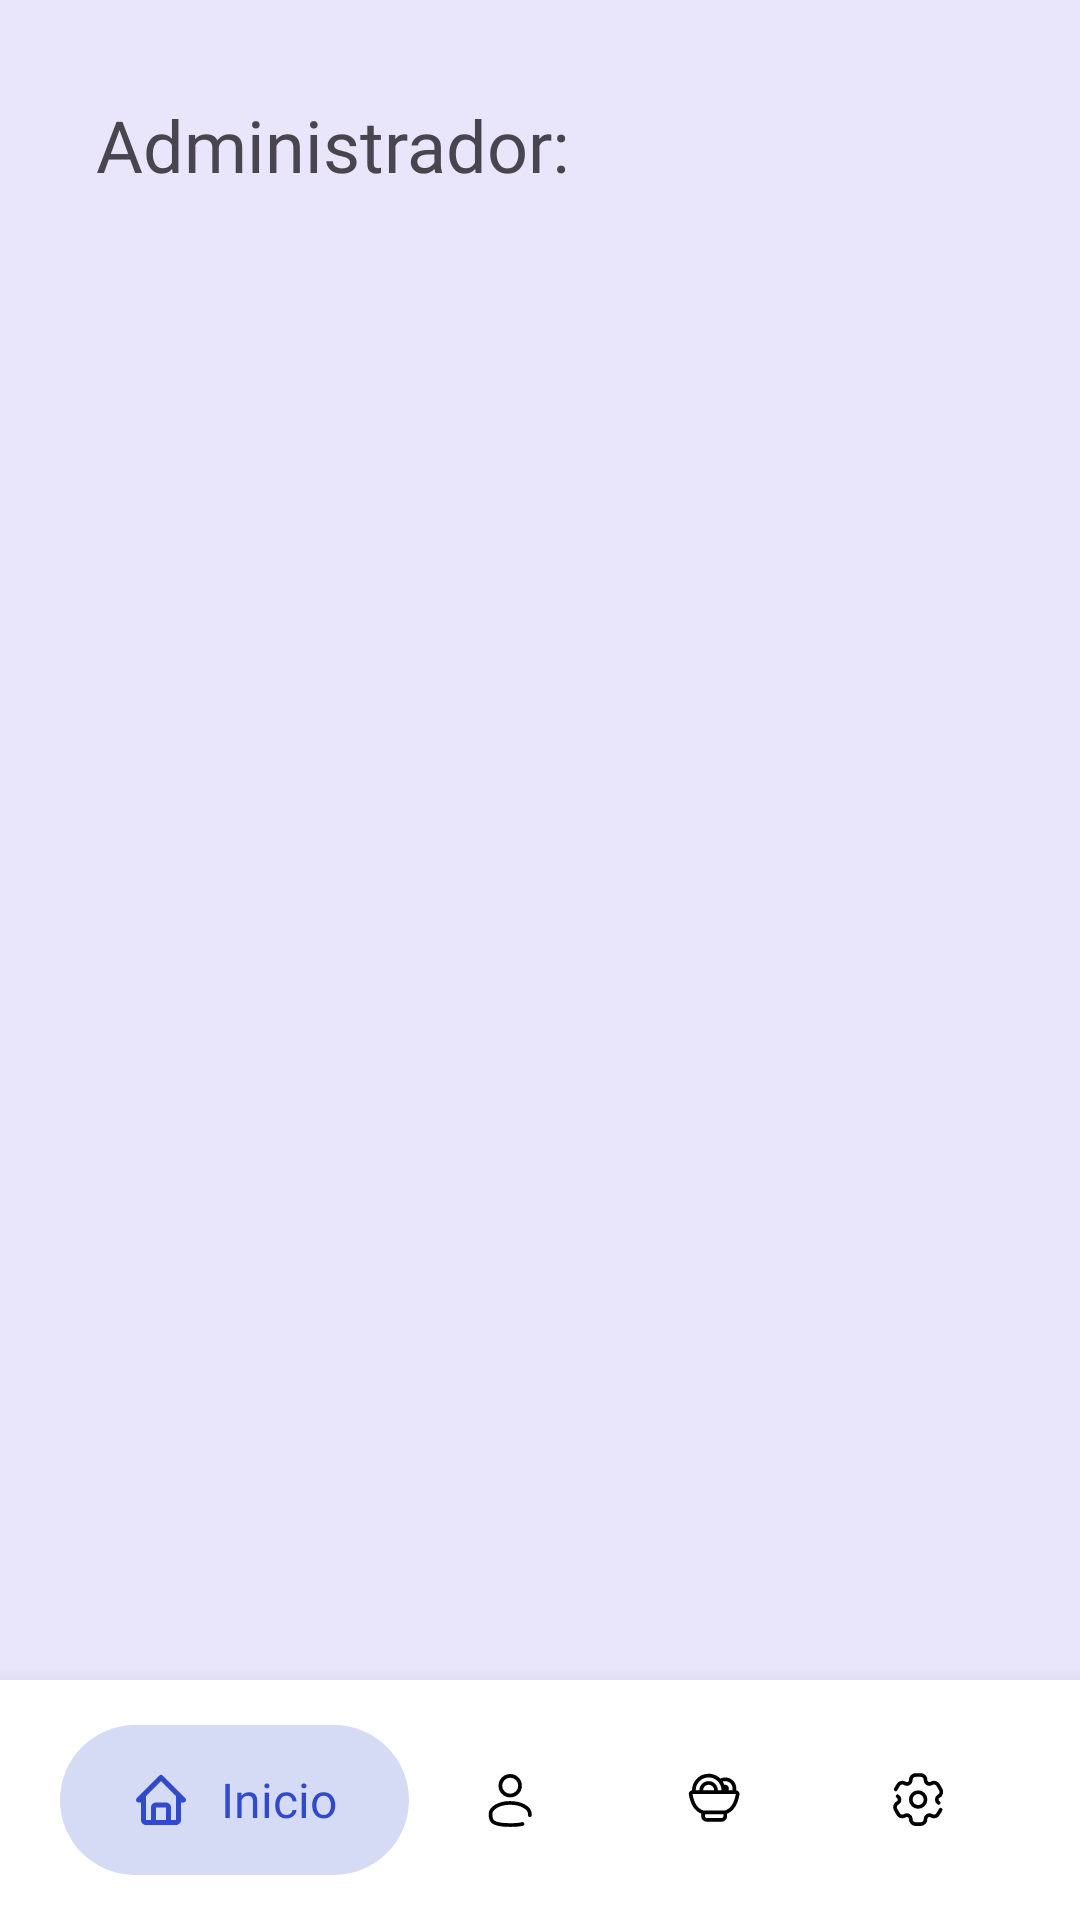

Locate icon controls on the screen. Image size 1080px×1920px, boxes as (x1,y1,x2,y2).
food menu: (688,1773,740,1822)
home: (136,1775,186,1825)
setting: (893,1773,943,1826)
user: (488,1774,532,1827)
